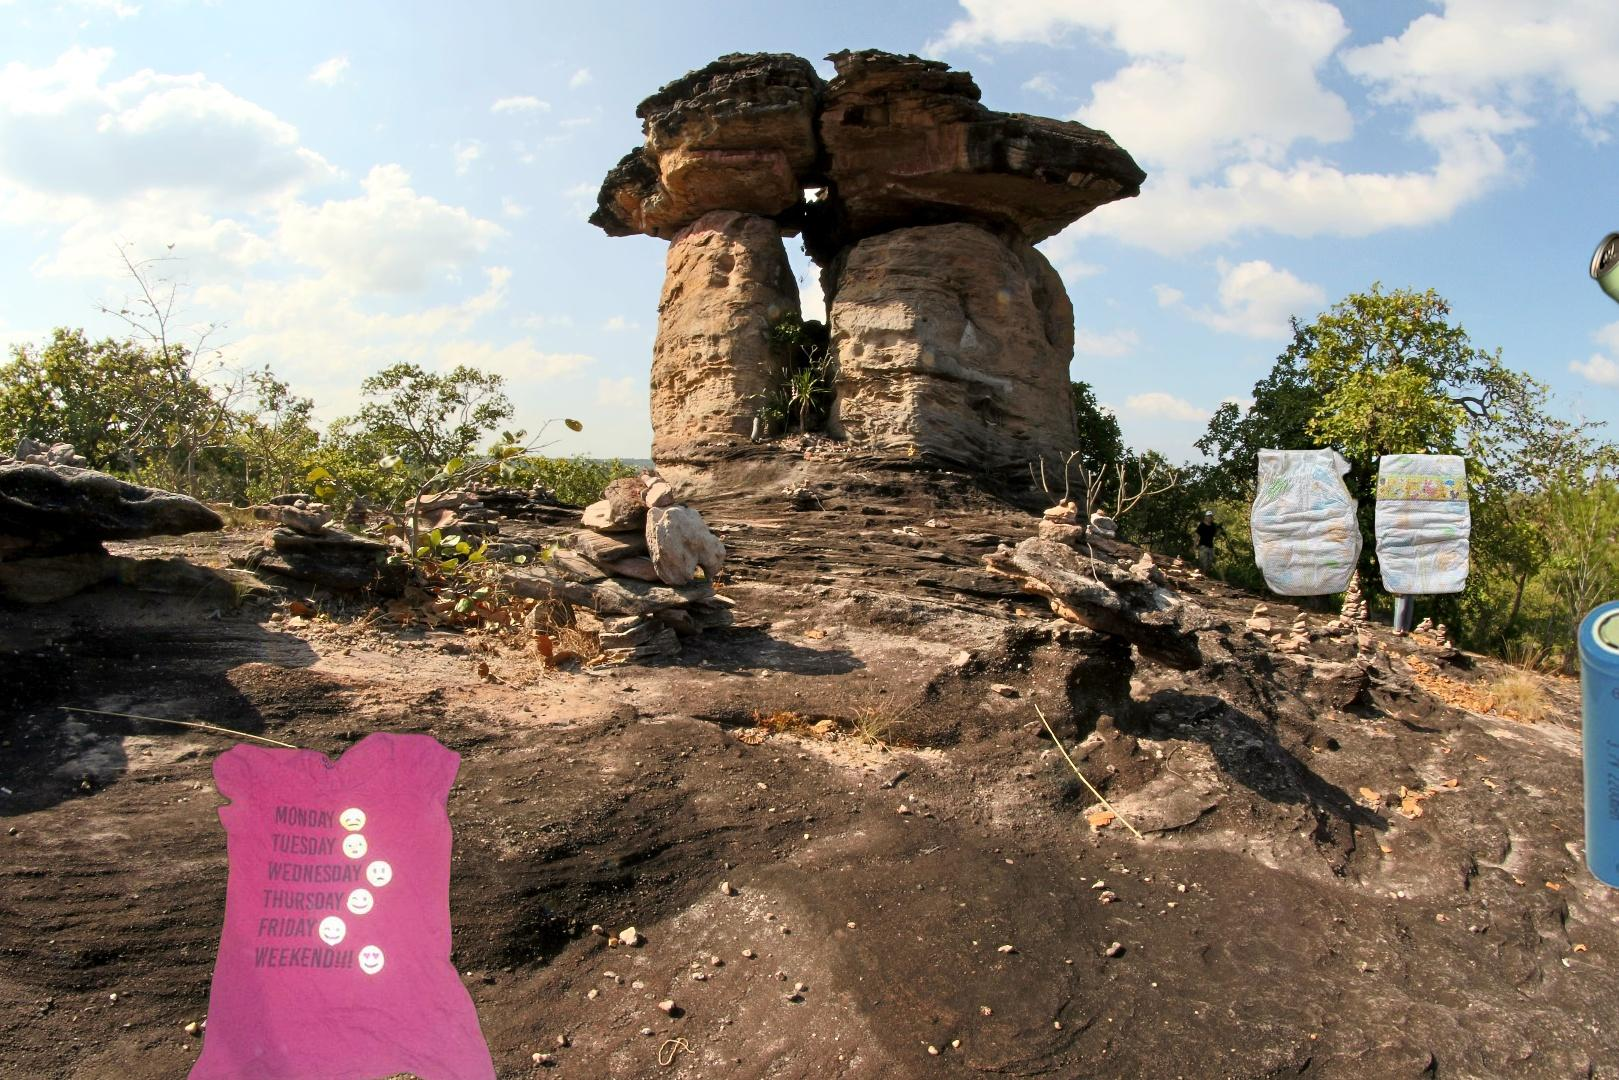battery: (1570, 497, 1619, 896)
clothes: (182, 726, 503, 1080)
metal-cans: (1586, 224, 1619, 325)
trash: (1246, 444, 1474, 599)
